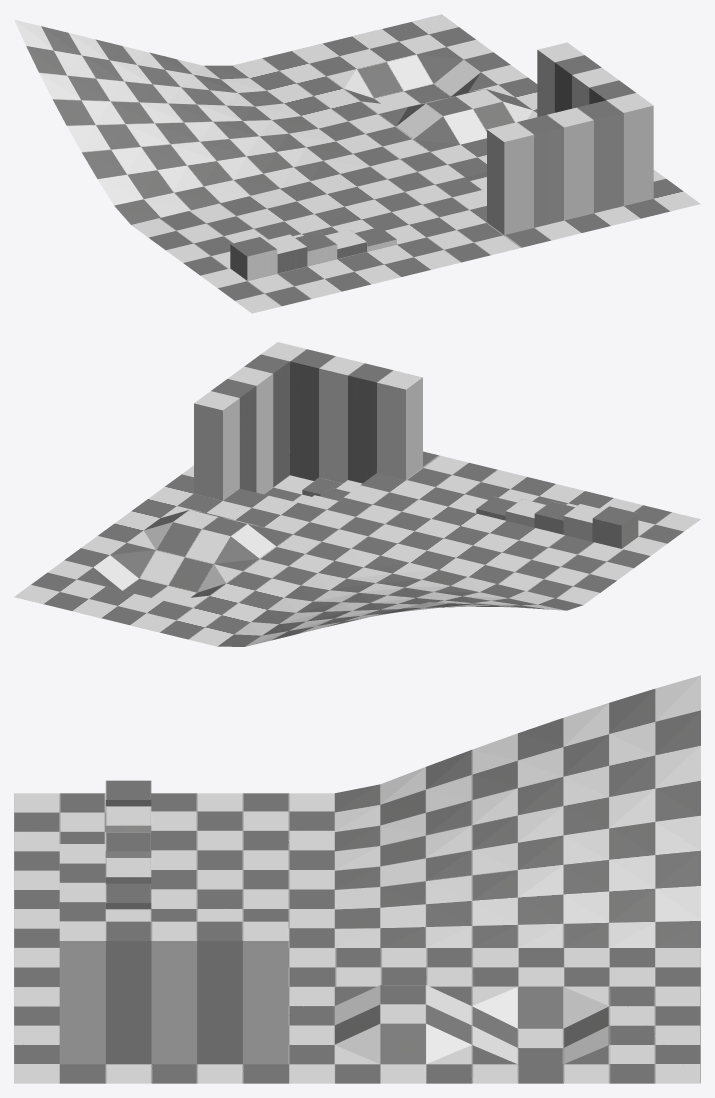
File: test_map3.obj
3 renders of one model, top to bottom at view 1: azimuth 30°, elevation 25°; view 2: azimuth 150°, elevation 25°; view 3: azimuth 270°, elevation 25°, orthographic. The views are drawn at different scales.
Parts seen in each view (by area): view 1: Grid.005; view 2: Grid.005; view 3: Grid.005.
Part boxes in pixels (x1,y1,x2,y2): Grid.005: (14, 14, 700, 313); Grid.005: (14, 342, 700, 646); Grid.005: (14, 675, 700, 1083).
Size of the model in its own units: 97.06 by 25.51 by 97.06.
Materials: 1 (1 with a texture image).
